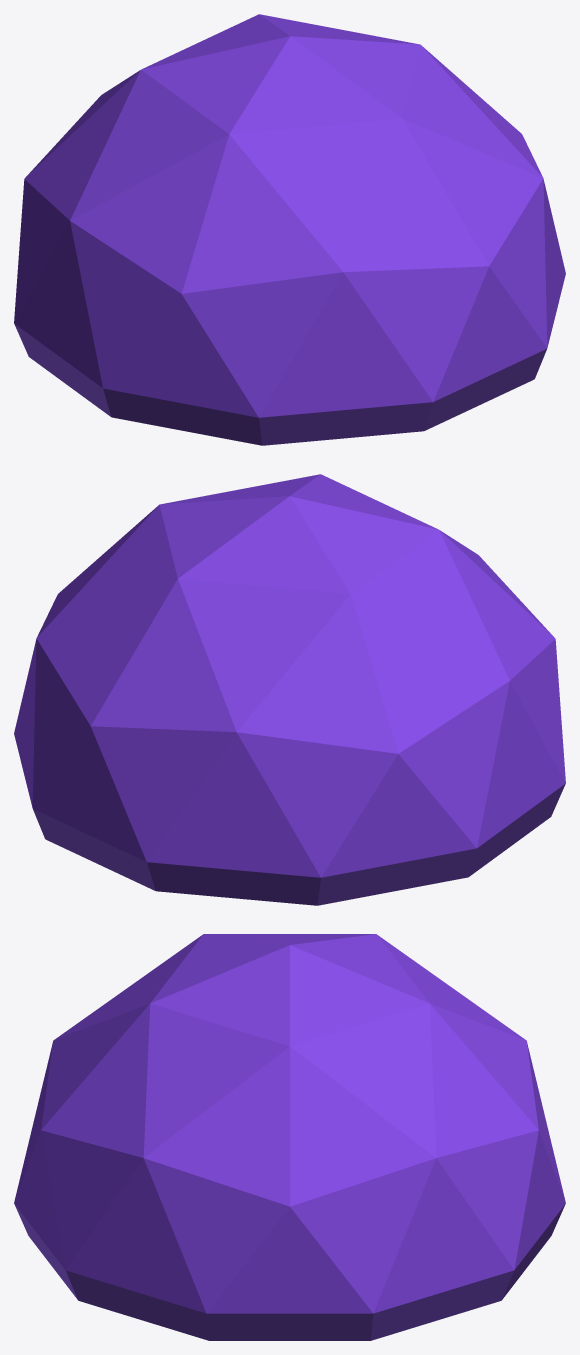
The picture shows the model from 3 angles, top to bottom: view 1: azimuth 30°, elevation 25°; view 2: azimuth 150°, elevation 25°; view 3: azimuth 270°, elevation 25°; orthographic projection. The views are drawn at different scales.
Parts seen in each view (by area): view 1: p2.002; view 2: p2.002; view 3: p2.002.
Boxes of the visible parts, <box> form: p2.002: <box>14,14,565,445</box>; p2.002: <box>14,474,565,905</box>; p2.002: <box>14,934,565,1340</box>.
Bounding box in the file's own units: 52.04 × 31.79 × 54.71.
